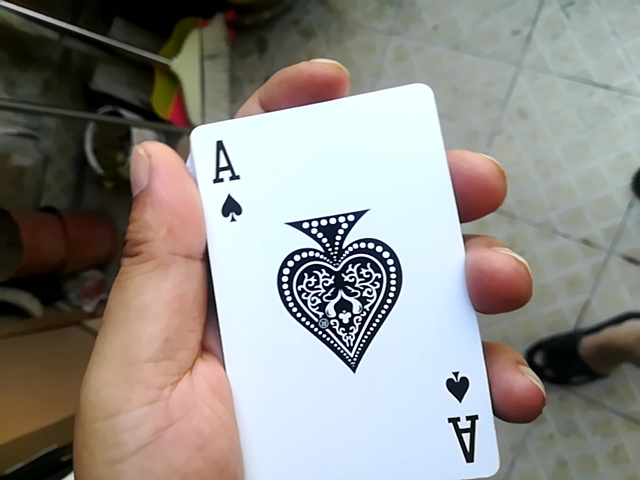ht a: (177, 79, 485, 475)
